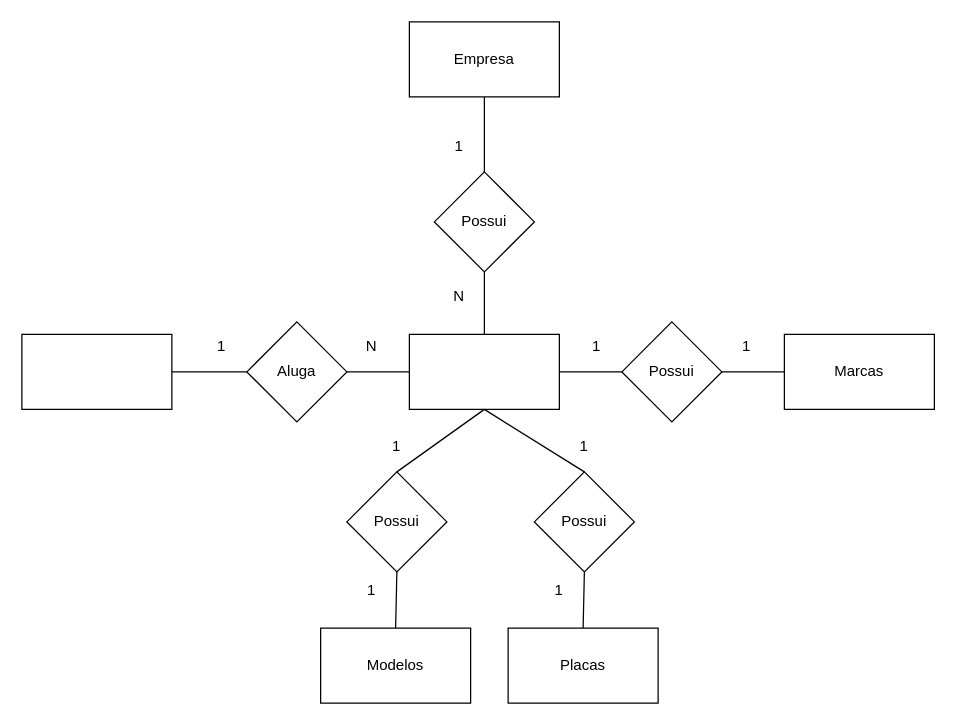
The diagram is 956 pixels wide and 725 high, and some of its shapes have lost their labels. Each missing label, with the centre of its shape:
"Clientes" belongs at pixel 96 371.
"Veiculos" belongs at pixel 483 371.
